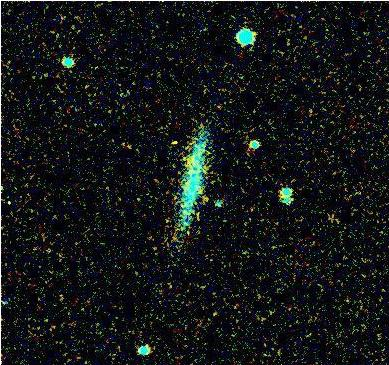star: (161, 128, 191, 158)
